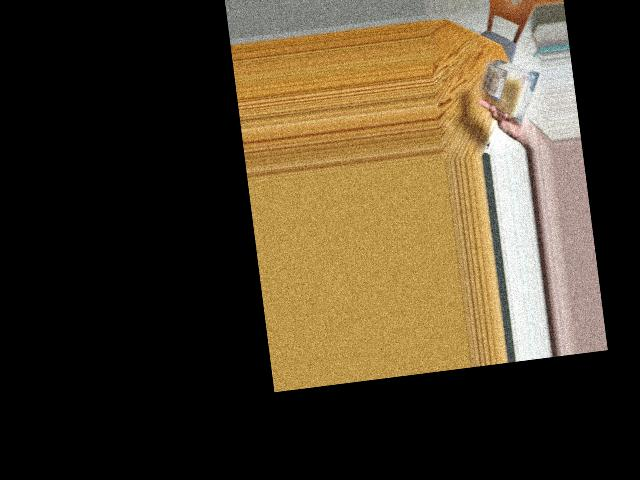cheese: (475, 51, 537, 124)
